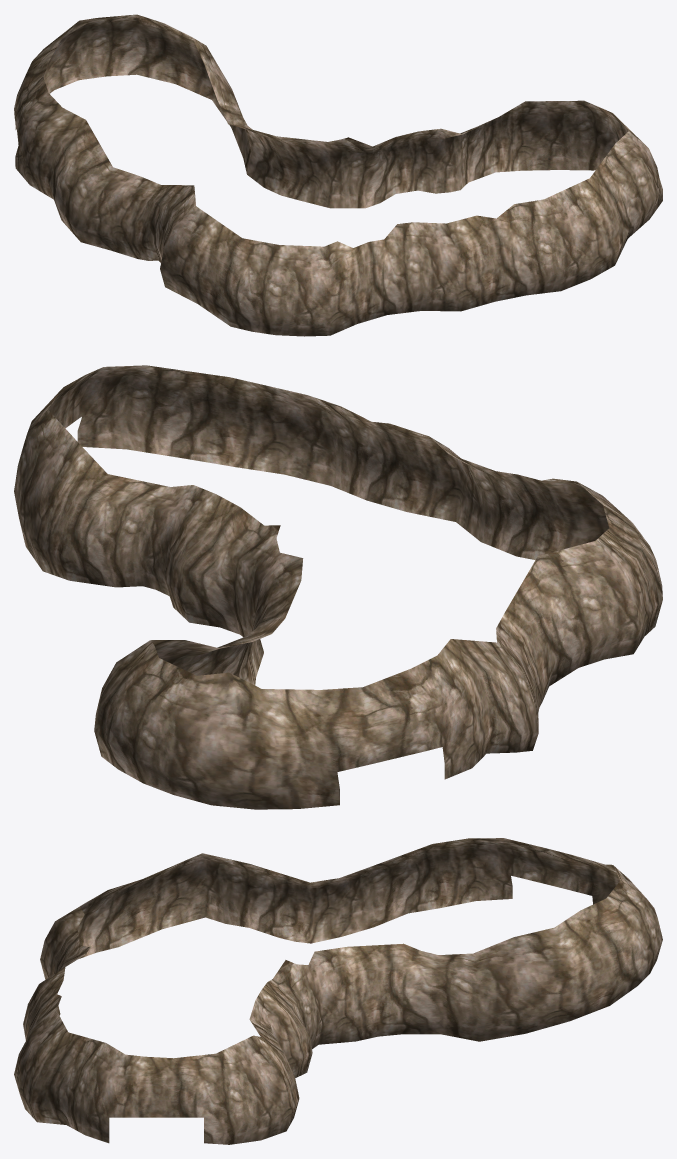
File: EKH_JAIL_PS_JA_MAIN_TOP_WALL98476.fbx
3 views of the same model, one above another, from view 1: azimuth 30°, elevation 25°; view 2: azimuth 150°, elevation 25°; view 3: azimuth 270°, elevation 25° (orthographic). The views are drawn at different scales.
Parts seen in each view (by area): view 1: EKH_JAIL_PS_JA_MAIN_TOP_WALL98476; view 2: EKH_JAIL_PS_JA_MAIN_TOP_WALL98476; view 3: EKH_JAIL_PS_JA_MAIN_TOP_WALL98476.
Part boxes in pixels (<box>): EKH_JAIL_PS_JA_MAIN_TOP_WALL98476: <box>14,14,662,336</box>; EKH_JAIL_PS_JA_MAIN_TOP_WALL98476: <box>14,365,662,809</box>; EKH_JAIL_PS_JA_MAIN_TOP_WALL98476: <box>14,838,662,1144</box>.
Size of the model in its own units: 313817 by 74932 by 354954.
1 material, 1 textured.
